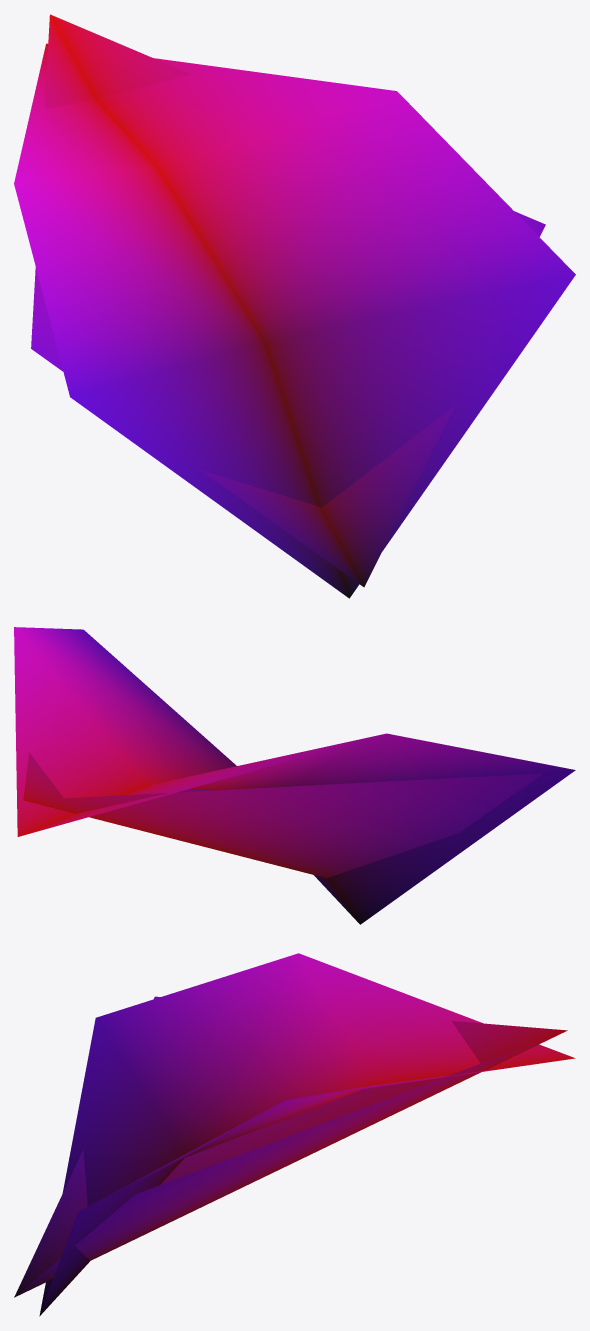
The model's file is broadfern_01_single.dae.
3 views of the same model, one above another, from view 1: azimuth 30°, elevation 25°; view 2: azimuth 150°, elevation 25°; view 3: azimuth 270°, elevation 25° (orthographic). The views are drawn at different scales.
Parts seen in each view (by area): view 1: broadfern128, broadfern8; view 2: broadfern128, broadfern8; view 3: broadfern128, broadfern8.
Boxes of the visible parts, x1,y1,x2,y2 form: broadfern128: (14,43,575,598); broadfern8: (31,14,545,587); broadfern128: (14,627,575,924); broadfern8: (23,752,543,878); broadfern128: (39,953,575,1316); broadfern8: (14,996,567,1297).
Size of the model in its own units: 1.73 by 1.99 by 1.16.
